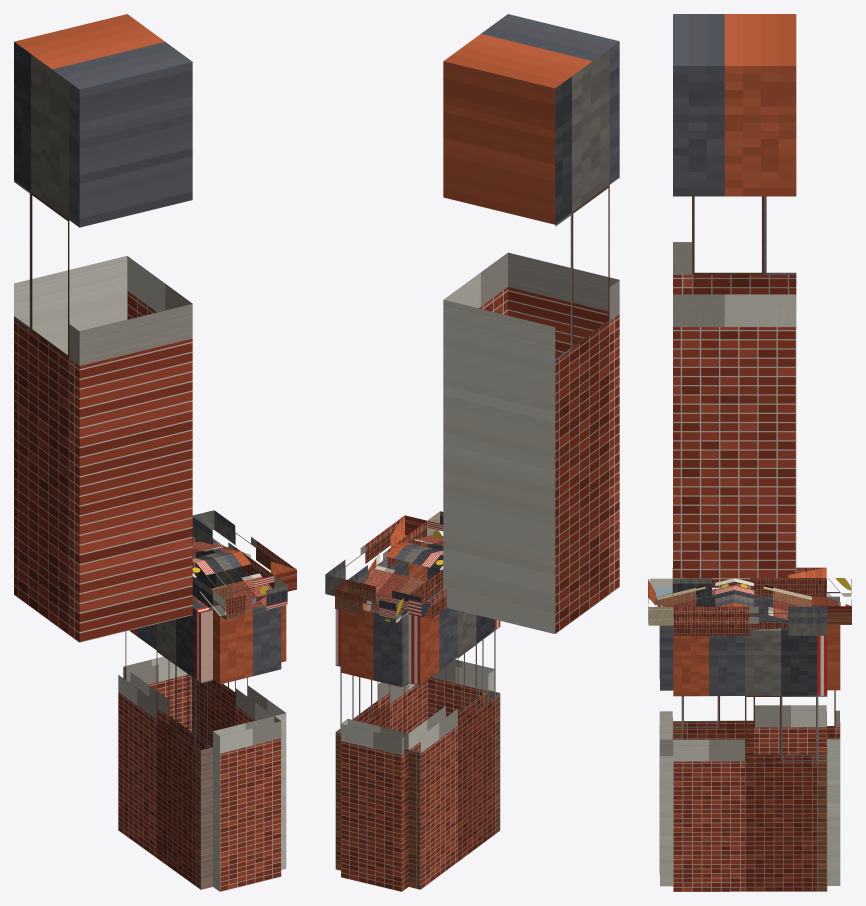
3 views of the same model, side by side, from view 1: azimuth 30°, elevation 25°; view 2: azimuth 150°, elevation 25°; view 3: azimuth 270°, elevation 25° (orthographic). The views are drawn at different scales.
Parts seen in each view (by area): view 1: 1107169159__chimney_0_xb, 1107169159__wall_1_xb, 1107169159__wall_0_xb, 1107169159__wall_3_xb, 1107169159__cornice_3, 1107169159__wall_2_xb, 1107169159_roof_-1_xb, 1107169159__cornice_0; view 2: 1107169159__chimney_0_xb, 1107169159__wall_1_xb, 1107169159__wall_2_xb, 1107169159__wall_3_xb, 1107169159__wall_0_xb, 1107169159__cornice_3, 1107169159_roof_1_xb, 1107169159__cornice_2, 1107169159__cornice_1; view 3: 1107169159__chimney_0_xb, 1107169159__wall_3_xb, 1107169159__wall_1_xb, 1107169159__cornice_3, 1107169159__wall_0_xb, 1107169159__wall_2_xb, 1107169159__cornice_1, 1107169159_roof_1_xb, 1107169159_roof_-1_xb, 1107169159__cornice_0, 1107169159__cornice_2.
Part boxes in pixels (x1,y1,x2,y2): 1107169159__chimney_0_xb: (14, 14, 192, 642); 1107169159__wall_1_xb: (118, 596, 212, 889); 1107169159__wall_0_xb: (213, 605, 281, 891); 1107169159__wall_3_xb: (191, 536, 286, 869); 1107169159__cornice_3: (192, 510, 296, 591); 1107169159__wall_2_xb: (123, 631, 191, 731); 1107169159_roof_-1_xb: (192, 551, 271, 616); 1107169159__cornice_0: (213, 575, 287, 619); 1107169159__chimney_0_xb: (443, 14, 619, 633); 1107169159__wall_1_xb: (408, 588, 500, 889); 1107169159__wall_2_xb: (341, 603, 408, 891); 1107169159__wall_3_xb: (335, 542, 427, 870); 1107169159__wall_0_xb: (427, 543, 494, 719); 1107169159__cornice_3: (325, 515, 427, 596); 1107169159_roof_1_xb: (364, 544, 443, 602); 1107169159__cornice_2: (335, 580, 408, 622); 1107169159__cornice_1: (408, 569, 446, 619); 1107169159__chimney_0_xb: (673, 14, 796, 587); 1107169159__wall_3_xb: (673, 628, 827, 891); 1107169159__wall_1_xb: (673, 594, 826, 754); 1107169159__cornice_3: (673, 606, 827, 635); 1107169159__wall_0_xb: (659, 625, 673, 886); 1107169159__wall_2_xb: (826, 596, 840, 885); 1107169159__cornice_1: (672, 567, 826, 596); 1107169159_roof_1_xb: (734, 578, 811, 619); 1107169159_roof_-1_xb: (657, 578, 734, 611); 1107169159__cornice_0: (648, 578, 673, 625); 1107169159__cornice_2: (826, 578, 851, 624).
Size of the model in its own units: 0.2882 by 1.05 by 0.2479.
1 material, 1 textured.
